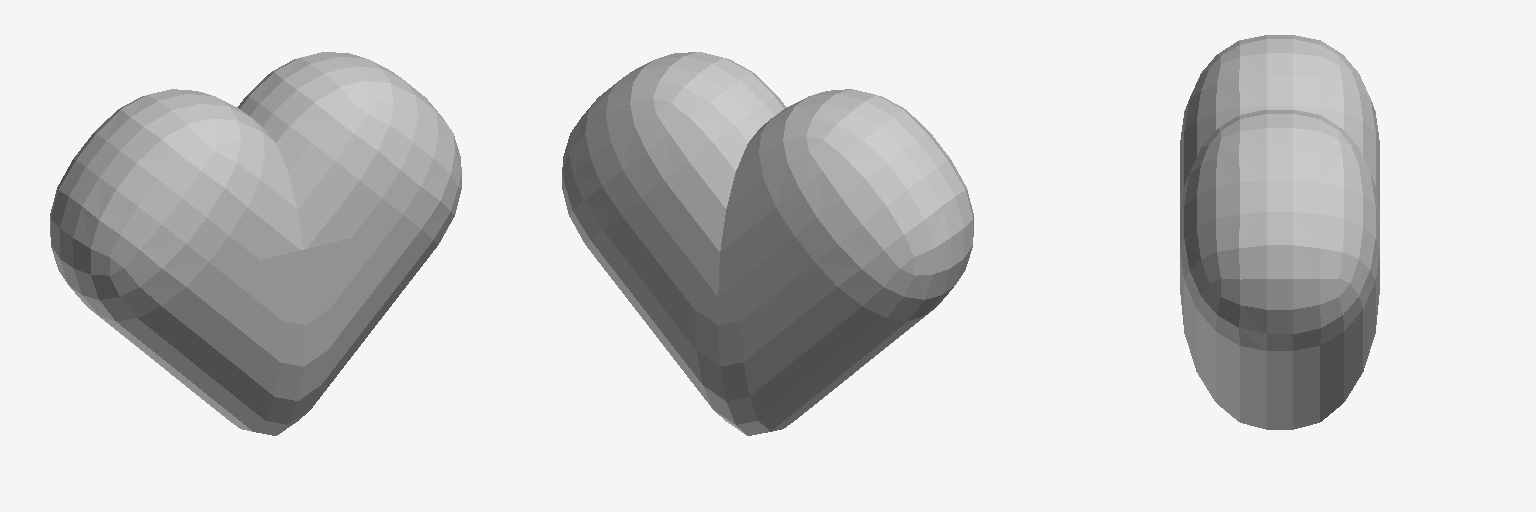
The model's file is heart_teamYellow.obj.
3 views of the same model, side by side, from view 1: azimuth 30°, elevation 25°; view 2: azimuth 150°, elevation 25°; view 3: azimuth 270°, elevation 25° (orthographic).
Parts seen in each view (by area): view 1: heart_teamYellow_Cube.036; view 2: heart_teamYellow_Cube.036; view 3: heart_teamYellow_Cube.036.
Part boxes in pixels (x1,y1,x2,y2): heart_teamYellow_Cube.036: (50, 52, 461, 435); heart_teamYellow_Cube.036: (562, 52, 973, 435); heart_teamYellow_Cube.036: (1180, 35, 1379, 429).
Bounding box in the file's own units: 1.08 × 0.939 × 0.4932.